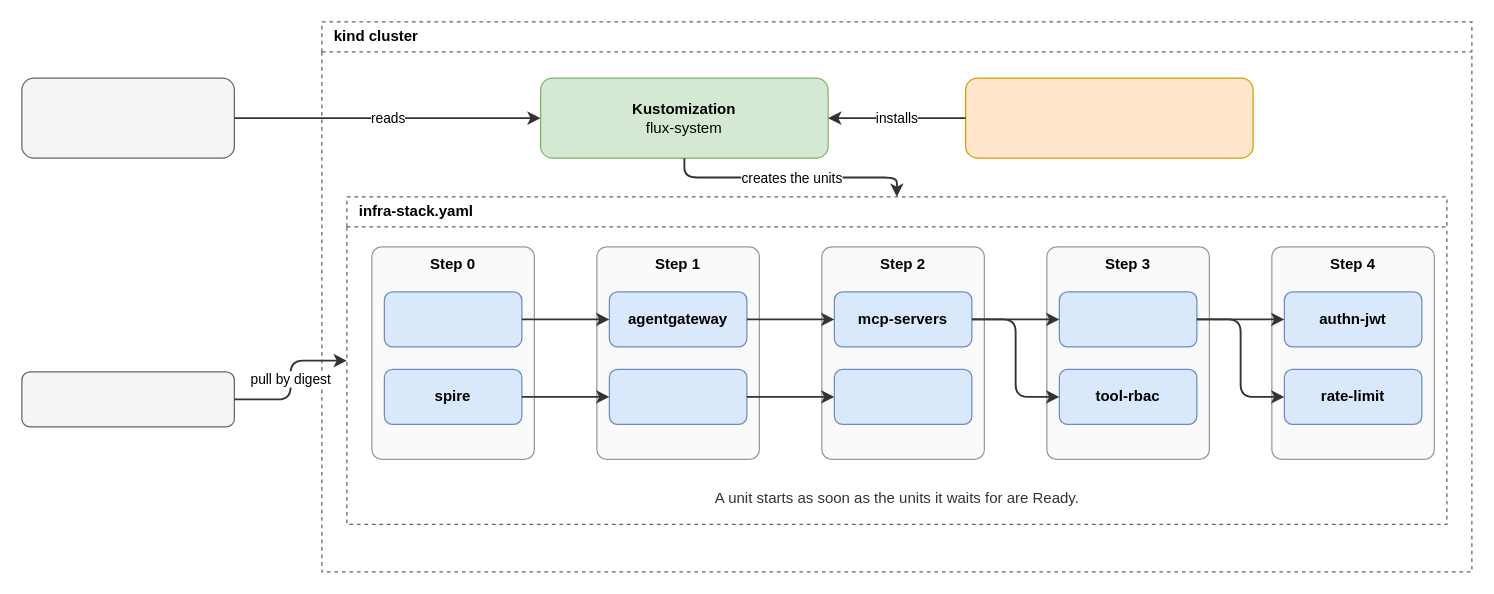
Image size: 1494x594. Some labels were removed from this diagram. The shapes that lost their labels are listed below. From the top down, each one's centre as x and y in pixels, then its label:
(127,117): Git repo (main) infra-stack.yaml
(1108,117): FluxInstance flux
(452,319): gateway-api
(1127,319): routes
(127,399): ghcr.io
(677,396): istio
(902,396): istio-ingress
